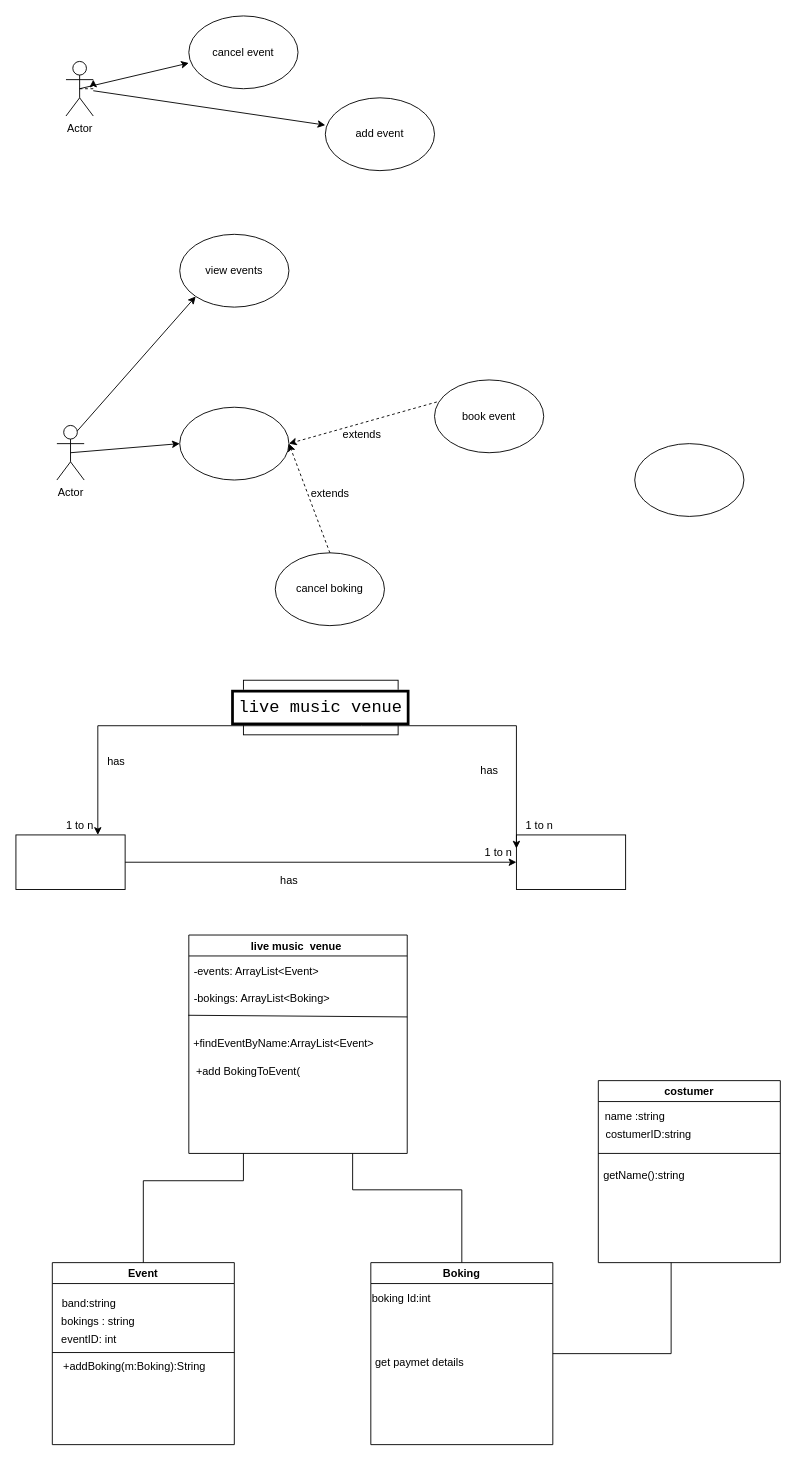
The diagram is 797 pixels wide and 1461 high, and some of its shapes have lost their labels. Each missing label, with the centre of its shape:
"bokings" belongs at point 571,862.
"events" belongs at point 70,862.
"login" belongs at point 689,479.
"serch event by name" belongs at point 234,443.
